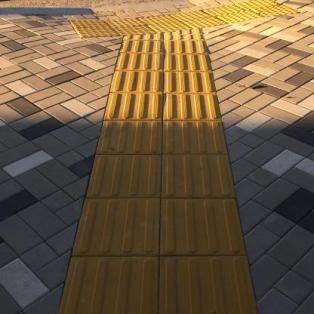Podoctatil: (57, 0, 312, 313)
